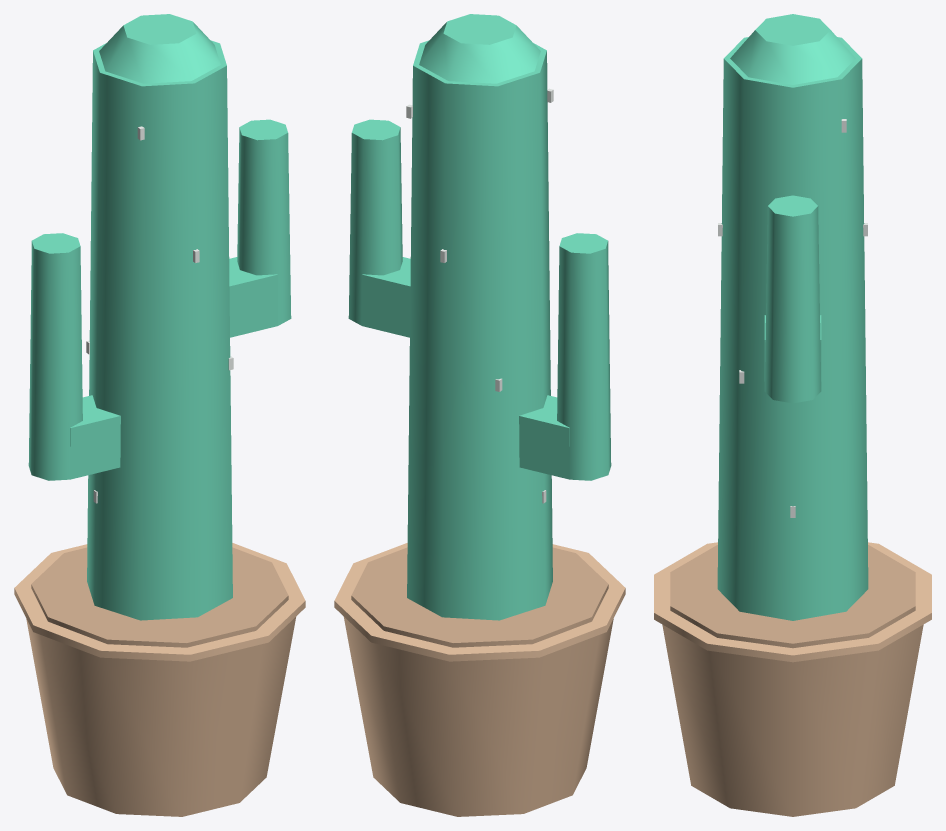
File: plantCactusTall.glb
3 views of the same model, side by side, from view 1: azimuth 30°, elevation 25°; view 2: azimuth 150°, elevation 25°; view 3: azimuth 270°, elevation 25° (orthographic).
Parts seen in each view (by area): view 1: plantCactusTall; view 2: plantCactusTall; view 3: plantCactusTall.
Boxes of the visible parts, x1,y1,x2,y2 form: plantCactusTall: (14,14,305,816); plantCactusTall: (334,14,625,816); plantCactusTall: (654,14,931,816).
Size of the model in its own units: 0.235 by 0.65 by 0.2206.
